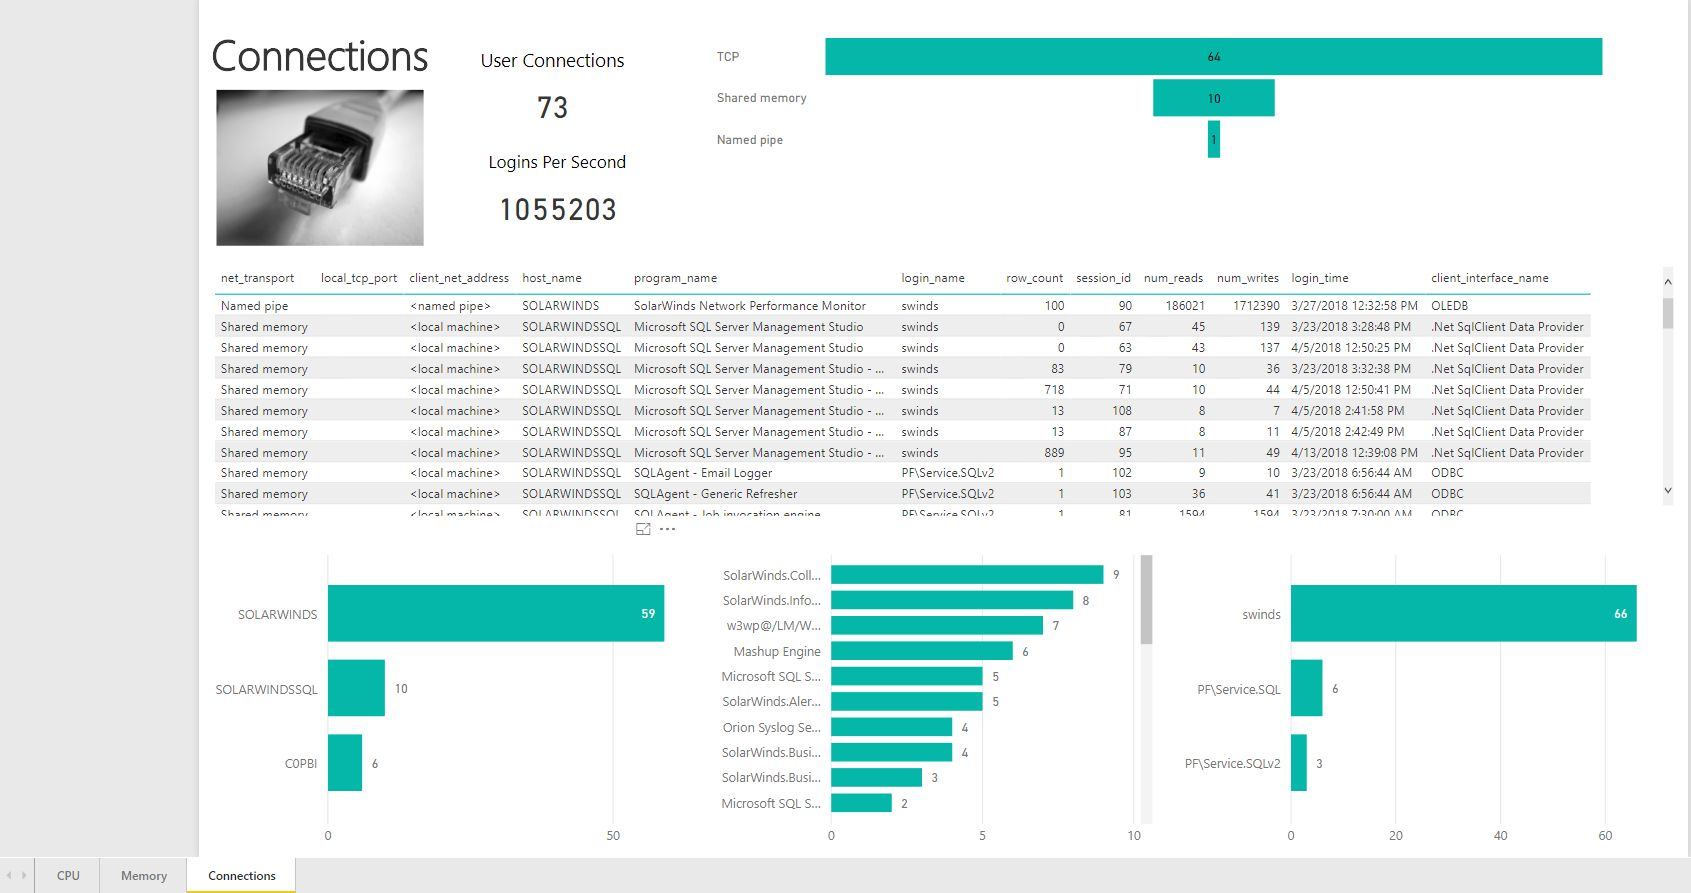

This screenshot's page, from the dashboard's own definition file:
{"tool":"powerbi","page":{"name":"Connections","canvas":[1280,720],"ordinal":3},"visuals":[{"type":"image","box":[0,56,208,144],"z":2},{"type":"tableEx","fields":{"Values":["Connections.net_transport","Sum(Connections.local_tcp_port)","Connections.client_net_address","Connections.host_name","Connections.program_name","Connections.login_name","Sum(Connections.row_count)","Sum(Connections.session_id)","Sum(Connections.num_reads)","Sum(Connections.num_writes)","Connections.login_time","Connections.client_interface_name"]},"box":[8,208,1264,224],"z":3},{"type":"funnel","fields":{"Category":["Connections.net_transport"],"Y":["CountNonNull(Connections.net_transport)"]},"box":[440,8,776,120],"z":4},{"type":"barChart","fields":{"Category":["Connections.host_name"],"Y":["CountNonNull(Connections.host_name)"]},"box":[8,448,408,272],"z":5},{"type":"card","fields":{"Values":["Sum(UserConnections.cntr_value)"]},"box":[208,8,176,88],"z":6},{"type":"barChart","fields":{"Category":["Connections.program_name"],"Y":["CountNonNull(Connections.program_name)"]},"box":[432,448,392,272],"z":6},{"type":"barChart","fields":{"Category":["Connections.login_name"],"Y":["CountNonNull(Connections.login_name)"]},"box":[840,448,424,272],"z":7},{"type":"textbox","box":[0,0,208,80],"z":8}]}

Visuals, with their boxes on the page's 1280x720 design canvas (x1, y1, x2, y2). These are canvas units, not pixel positions in the 1691x893 screenshot, which may show the page scaled, cropped or inside an application window:
image: 0:56:208:200
tableEx - Connections.net_transport x Sum(Connections.local_tcp_port): 8:208:1272:432
funnel - Connections.net_transport x CountNonNull(Connections.net_transport): 440:8:1216:128
barChart - Connections.host_name x CountNonNull(Connections.host_name): 8:448:416:720
card - Sum(UserConnections.cntr_value): 208:8:384:96
barChart - Connections.program_name x CountNonNull(Connections.program_name): 432:448:824:720
barChart - Connections.login_name x CountNonNull(Connections.login_name): 840:448:1264:720
textbox: 0:0:208:80
